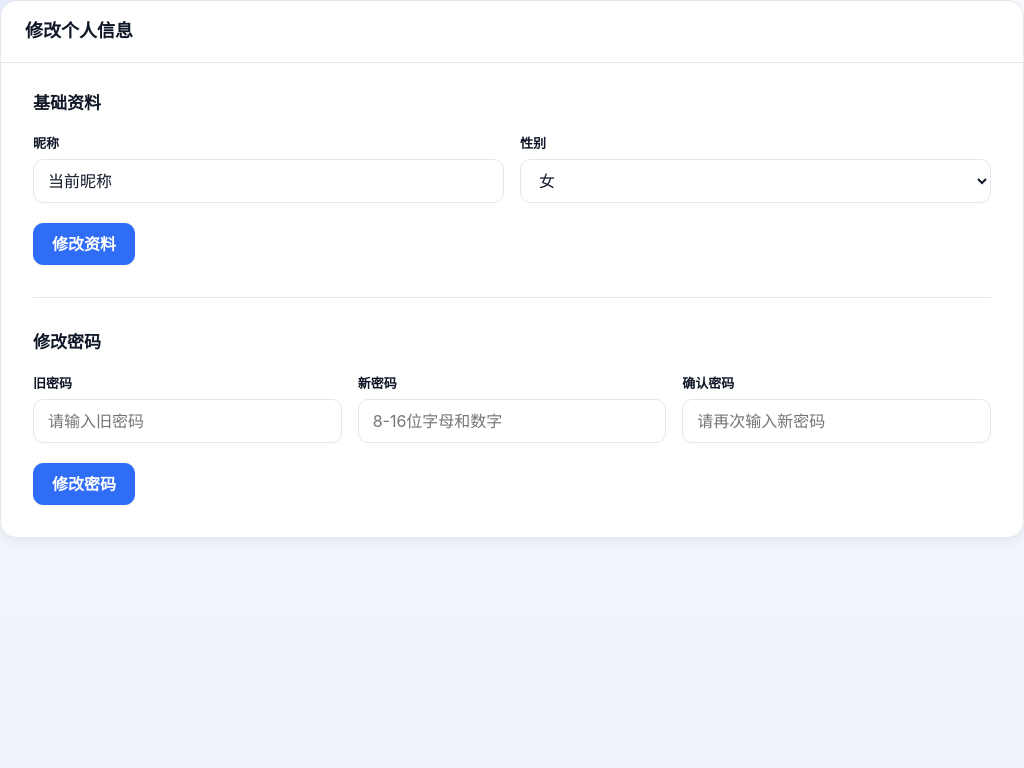
Test: ProfileInfoView › 确认密码实时校验并随新密码变化重新校验
Type "newpass2" into the password field labelled "新密码" at (512, 421), box x1=358 y1=399 x2=666 y2=443
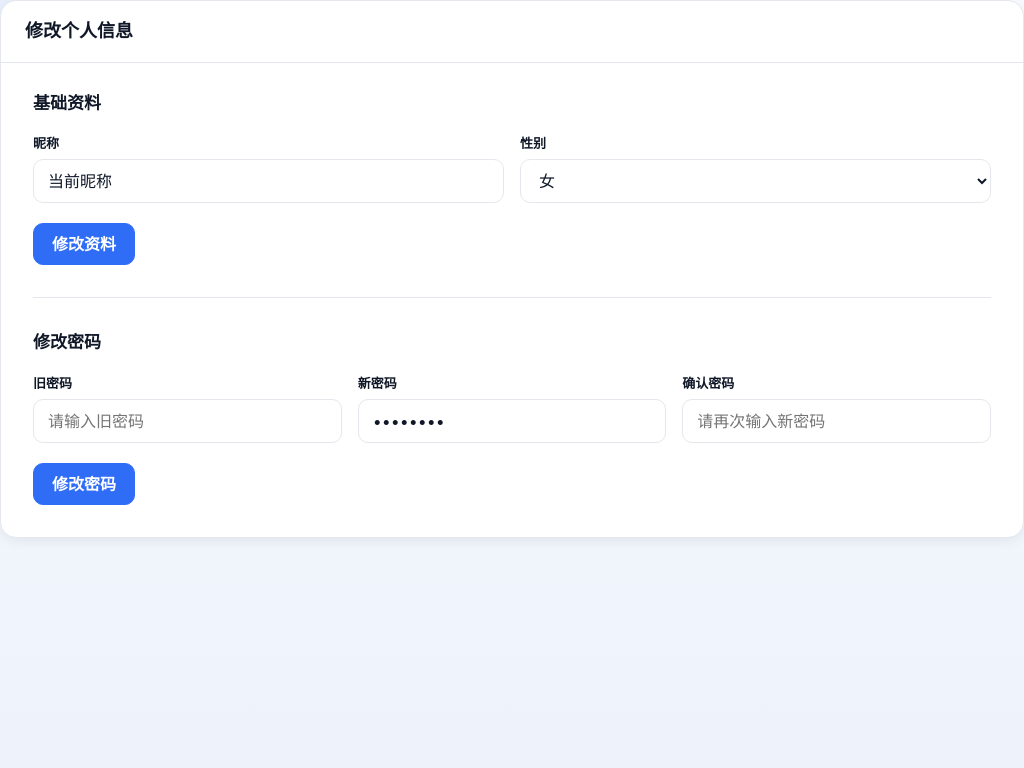
Type "different3" into the password field labelled "确认密码" at (837, 421), box x1=682 y1=399 x2=991 y2=443
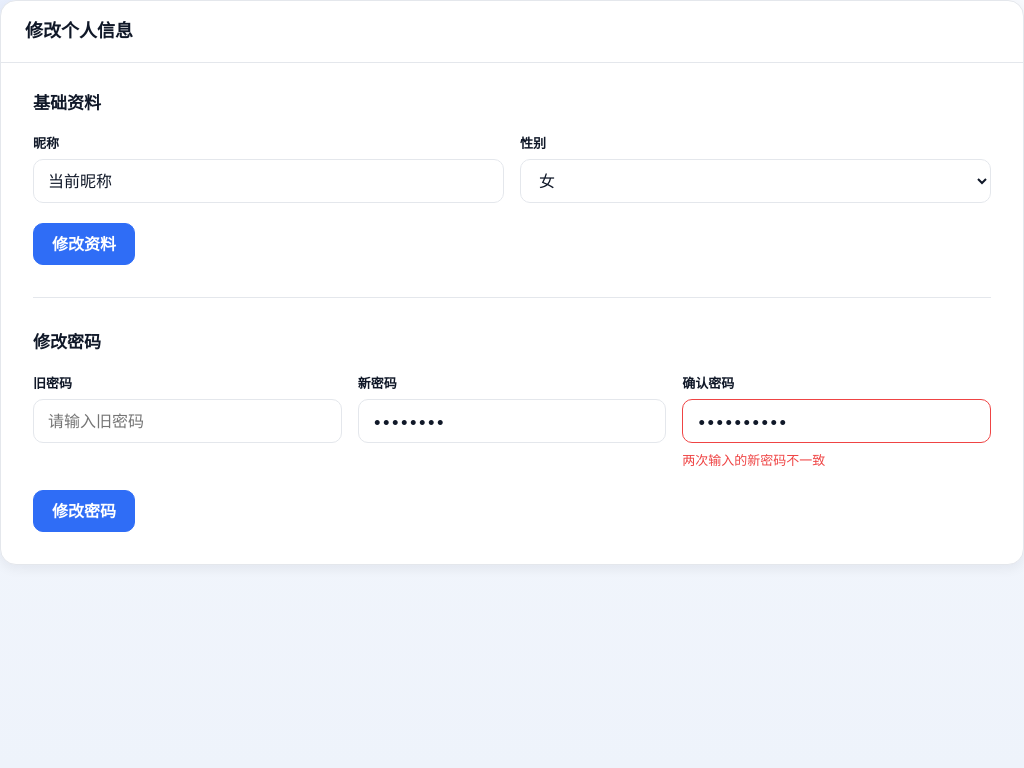
expect the text "两次输入的新密码不一致" is shown: met, box x1=682 y1=452 x2=825 y2=468
Type "different3" into the password field labelled "新密码" at (512, 421), box x1=358 y1=399 x2=666 y2=443
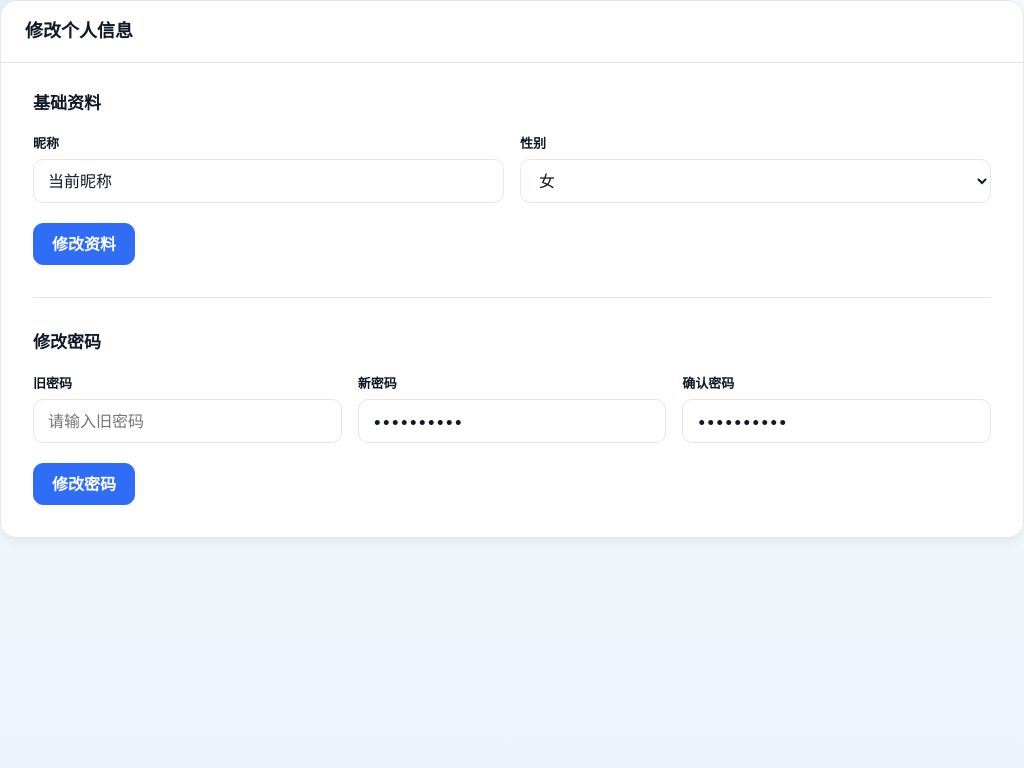
expect the text "两次输入的新密码不一致" is gone: met
